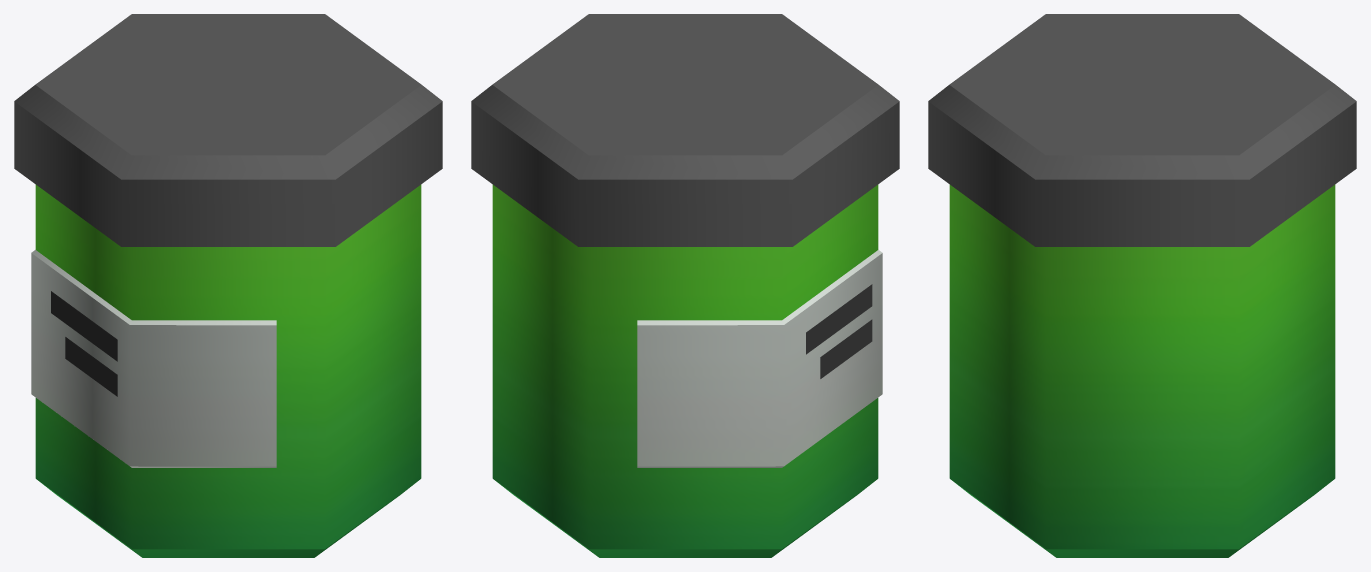
The model's file is Jar_1_H.fbx.
3 renders of one model, left to right at view 1: azimuth 30°, elevation 25°; view 2: azimuth 150°, elevation 25°; view 3: azimuth 270°, elevation 25°, orthographic.
Visible parts, largest first — view 1: Jar_1_H; view 2: Jar_1_H; view 3: Jar_1_H.
Boxes of the visible parts, bbox=[...] form: Jar_1_H: bbox=[14, 14, 442, 557]; Jar_1_H: bbox=[471, 14, 899, 557]; Jar_1_H: bbox=[928, 14, 1356, 557].
Size of the model in its own units: 17.99 by 21.94 by 20.77.
